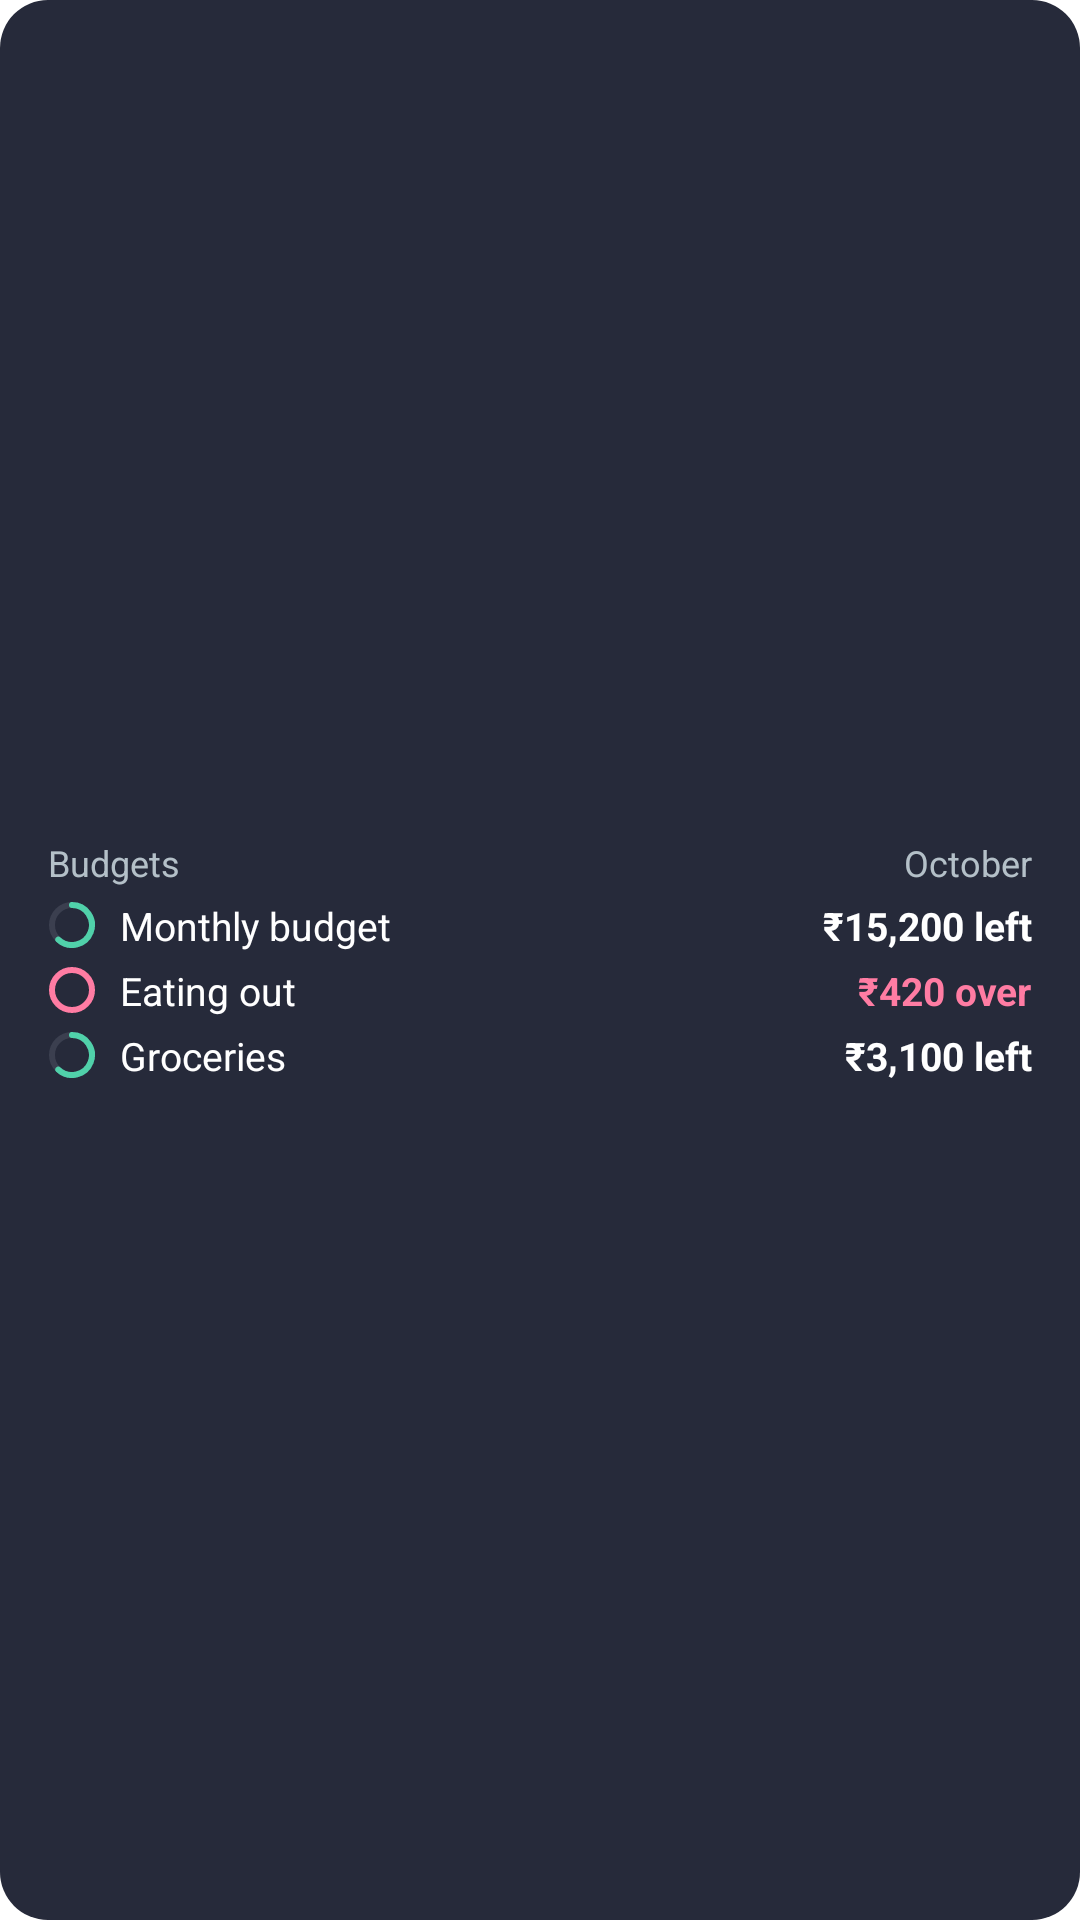

Screen size 1080w x 1920h. Icon name, then its box in pixels as (x1, y1, x2, y2):
widget ring: (55, 902, 95, 948), (55, 1032, 95, 1078)
widget ring over: (49, 967, 95, 1013)
